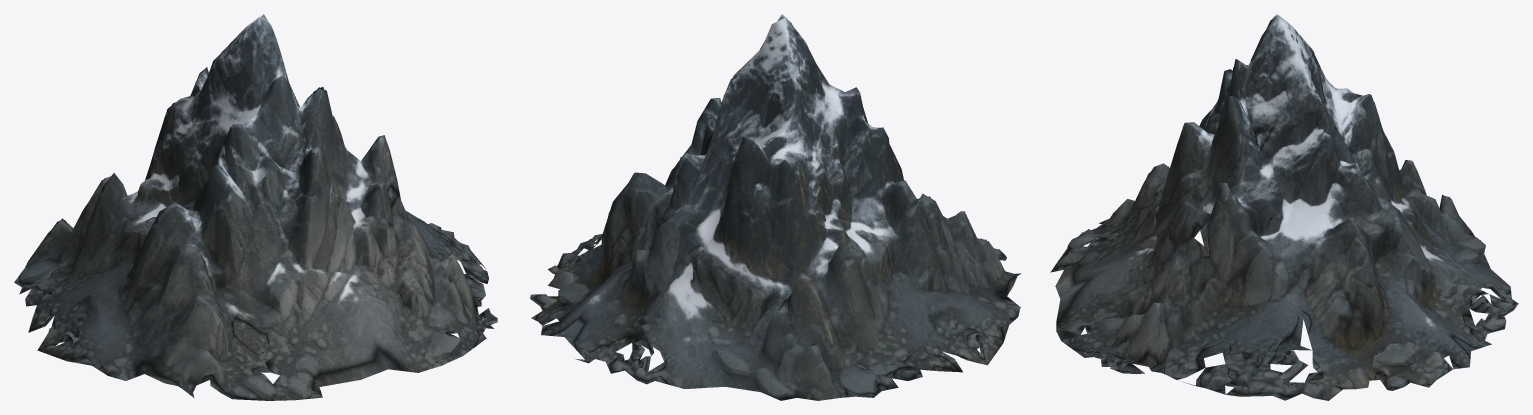
File: mountain-1.glb
3 renders of one model, left to right at view 1: azimuth 30°, elevation 25°; view 2: azimuth 150°, elevation 25°; view 3: azimuth 270°, elevation 25°, orthographic.
Parts seen in each view (by area): view 1: geometry_0; view 2: geometry_0; view 3: geometry_0.
Part boxes in pixels (x1,y1,x2,y2): geometry_0: (14,14,497,400); geometry_0: (530,14,1021,400); geometry_0: (1050,14,1518,400).
Bounding box in the file's own units: 0.9535 × 0.6272 × 0.9201.
Materials: 1 (1 with a texture image).
